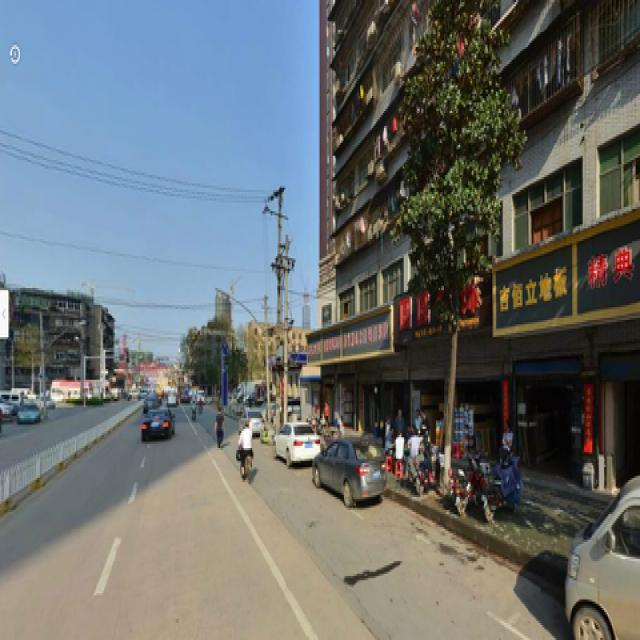magn: (408, 15, 488, 486)
